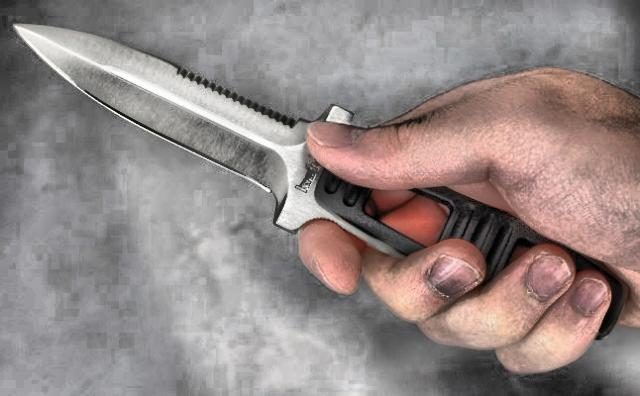knife: (8, 14, 612, 342)
